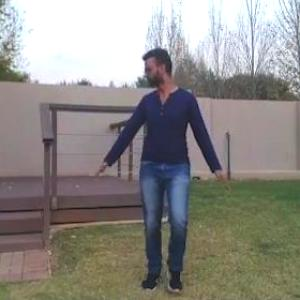land: (75, 49, 250, 298)
